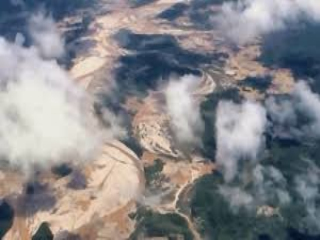smoke: (2, 48, 125, 164), (211, 95, 280, 176), (161, 71, 214, 158)
